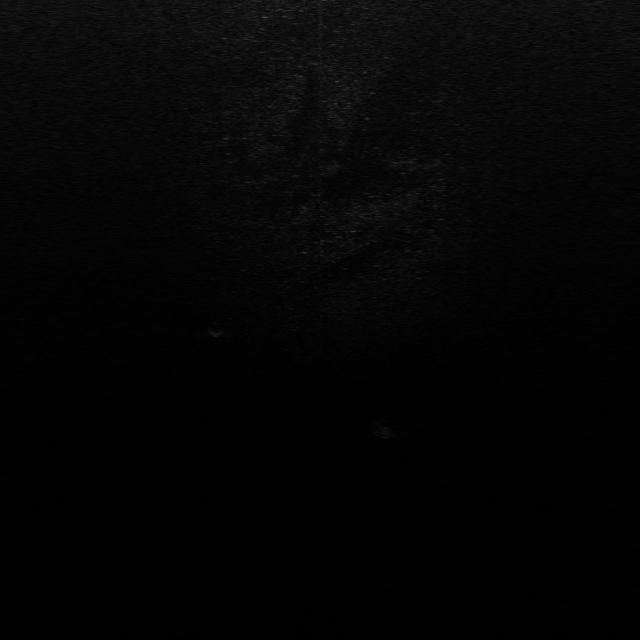ball: (372, 420, 402, 439)
circle cage: (204, 320, 230, 336)
